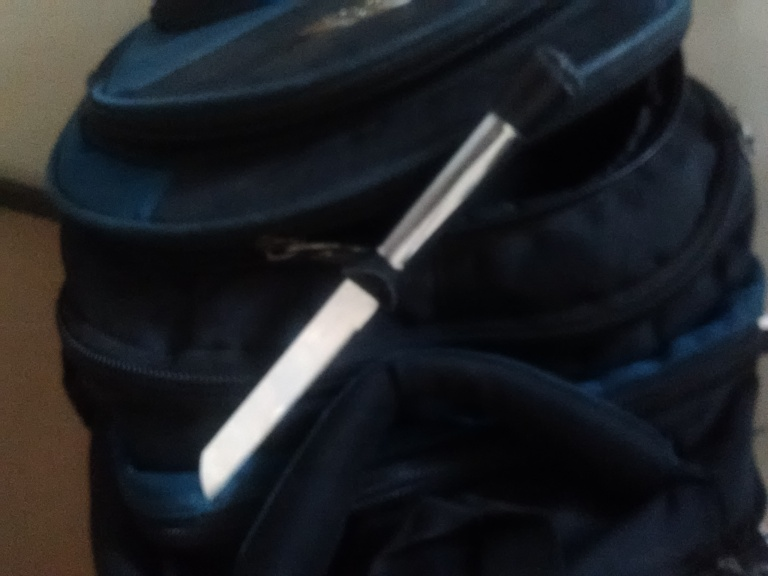knife: (190, 104, 546, 502)
